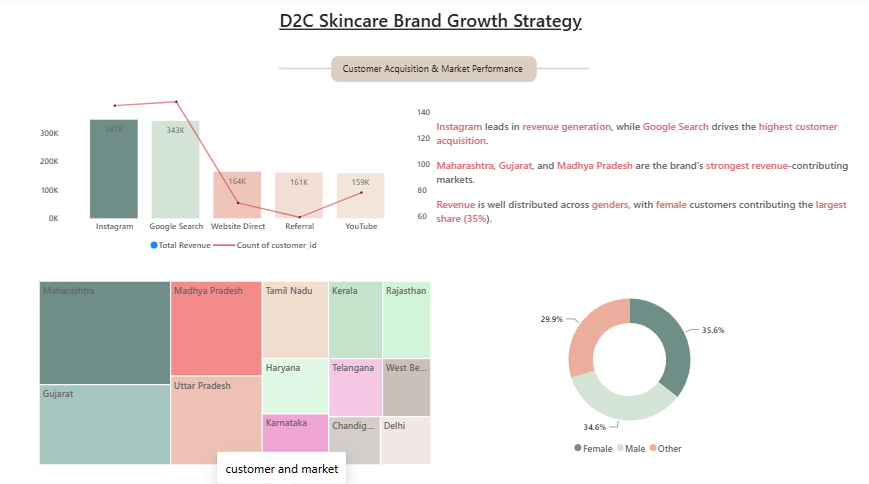

This screenshot's page, from the dashboard's own definition file:
{"tool":"powerbi","page":{"name":"customer and market ","canvas":[1280,720],"ordinal":1},"visuals":[{"type":"textbox","box":[408,10.2,463.9,51.2],"z":0},{"type":"textbox","box":[488.8,86.3,301.5,38],"z":1000},{"type":"shape","box":[412.7,52.7,76.1,103.9],"z":2000},{"type":"shape","box":[790.2,52.7,76.1,103.9],"z":3000},{"type":"textbox","box":[638,174.1,616.1,185.9],"z":4000},{"type":"lineStackedColumnComboChart","fields":{"Category":["1  Customers.acquisition_channel"],"Y":["1  Customers.Total Revenue"],"Y2":["Count(1  Customers.customer_id)"]},"box":[57.1,137.6,582.4,244.4],"z":5000},{"type":"treemap","fields":{"Group":["1  Customers.state"],"Values":["1  Customers.Total Revenue"]},"box":[57.1,411.2,582.4,278],"z":6000},{"type":"donutChart","fields":{"Category":["1  Customers.gender"],"Y":["1  Customers.Total Revenue"]},"box":[638,411.2,575.1,267.8],"z":7000}]}

Visuals, with their boxes in screenshot pixels (x1, y1, x2, y2), scaled from the page's 1280x720 canvas onto the 869x484 screenshot:
textbox: [277, 7, 592, 41]
textbox: [332, 58, 537, 84]
shape: [280, 35, 332, 105]
shape: [536, 35, 588, 105]
textbox: [433, 117, 851, 242]
lineStackedColumnComboChart - 1  Customers.acquisition_channel x 1  Customers.Total Revenue: [39, 92, 434, 257]
treemap - 1  Customers.state x 1  Customers.Total Revenue: [39, 276, 434, 463]
donutChart - 1  Customers.gender x 1  Customers.Total Revenue: [433, 276, 824, 456]
